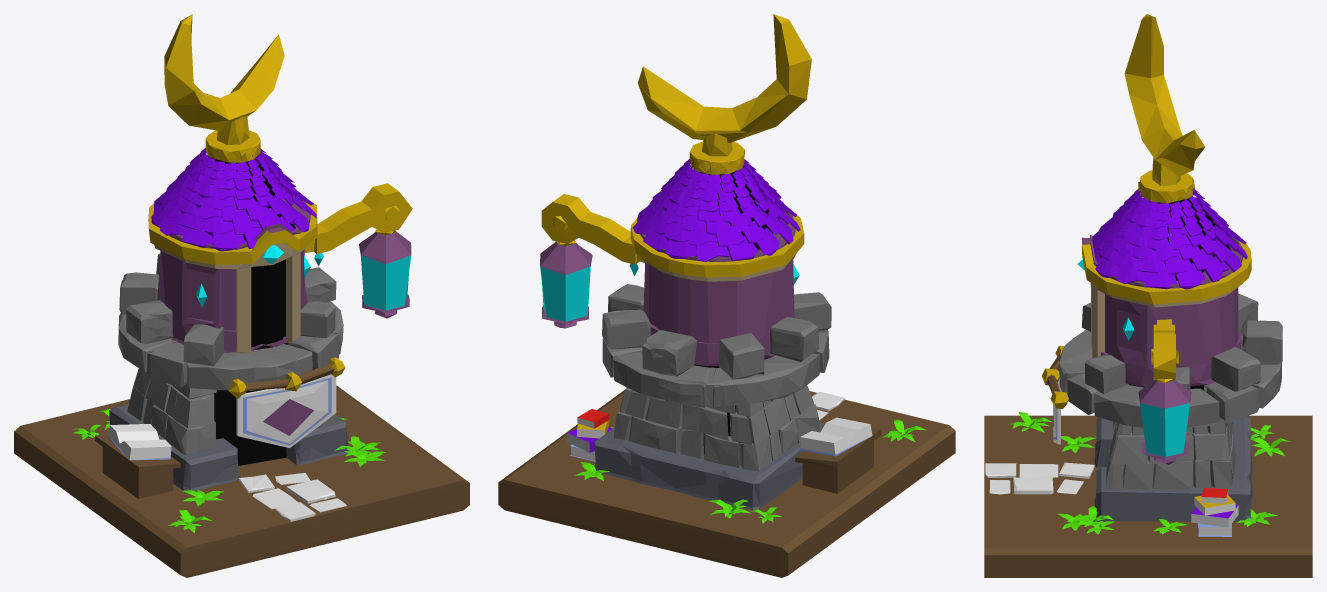
File: Magierturm.fbx
The picture shows the model from 3 angles, left to right: view 1: azimuth 30°, elevation 25°; view 2: azimuth 150°, elevation 25°; view 3: azimuth 270°, elevation 25°; orthographic projection.
Parts seen in each view (by area): view 1: Cube.003; view 2: Cube.003; view 3: Cube.003.
Boxes of the visible parts, box(x1,y1,x2,y2) form: Cube.003: box(14, 14, 469, 577); Cube.003: box(498, 14, 955, 577); Cube.003: box(984, 14, 1312, 577).
Bounding box in the file's own units: 334 × 476 × 300.
